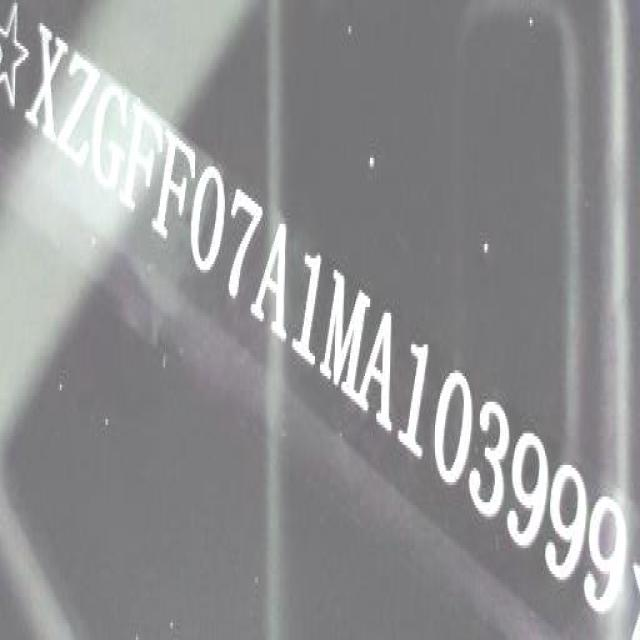0: (178, 150, 238, 284), (428, 362, 478, 497)
1: (283, 239, 345, 381), (391, 326, 438, 466)
3: (464, 388, 514, 524)
7: (211, 178, 270, 320)
9: (581, 480, 633, 628), (503, 420, 555, 560), (542, 456, 593, 594)
A: (246, 209, 302, 355), (356, 308, 394, 442)
F: (140, 125, 202, 255), (118, 99, 165, 216)
G: (84, 76, 142, 210)
M: (317, 266, 371, 412)
X: (23, 17, 70, 140)
Z: (56, 48, 100, 168)
